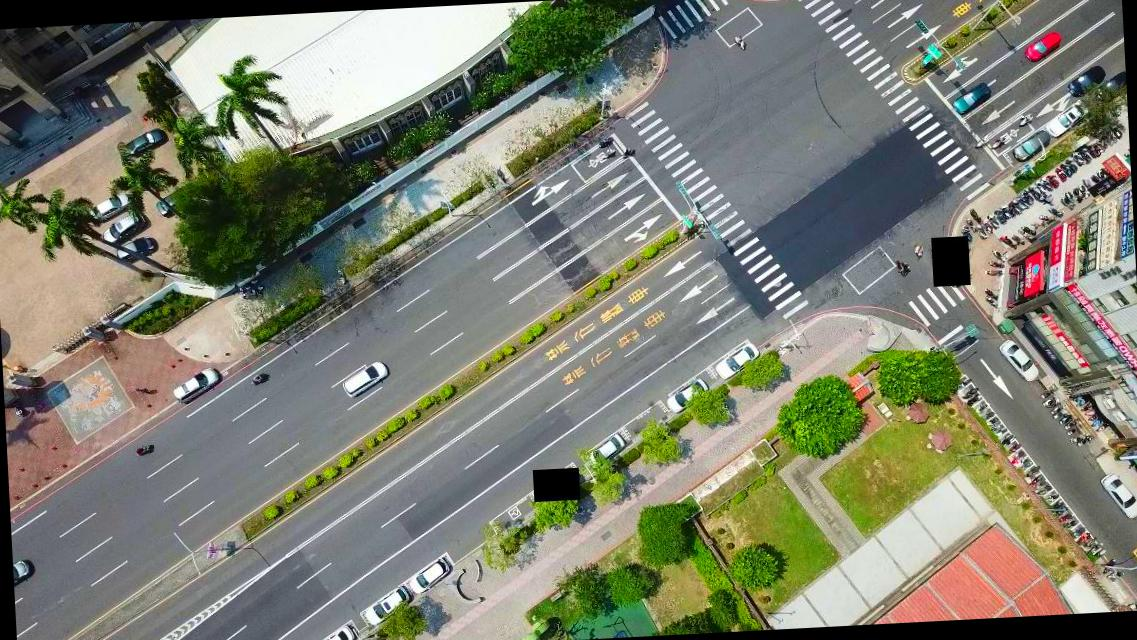vehicle: (340, 361, 389, 401), (171, 368, 221, 406), (712, 344, 760, 382), (1099, 472, 1136, 521), (1042, 102, 1088, 138), (664, 379, 710, 414), (407, 560, 453, 594), (1000, 340, 1038, 380), (99, 214, 147, 244), (589, 432, 628, 468), (87, 191, 132, 222), (364, 590, 406, 623), (1066, 64, 1106, 96), (114, 237, 156, 266), (1012, 130, 1052, 160), (1023, 32, 1062, 61), (124, 130, 166, 156), (954, 85, 990, 112), (155, 192, 190, 218), (1097, 74, 1125, 100), (311, 624, 358, 639)
